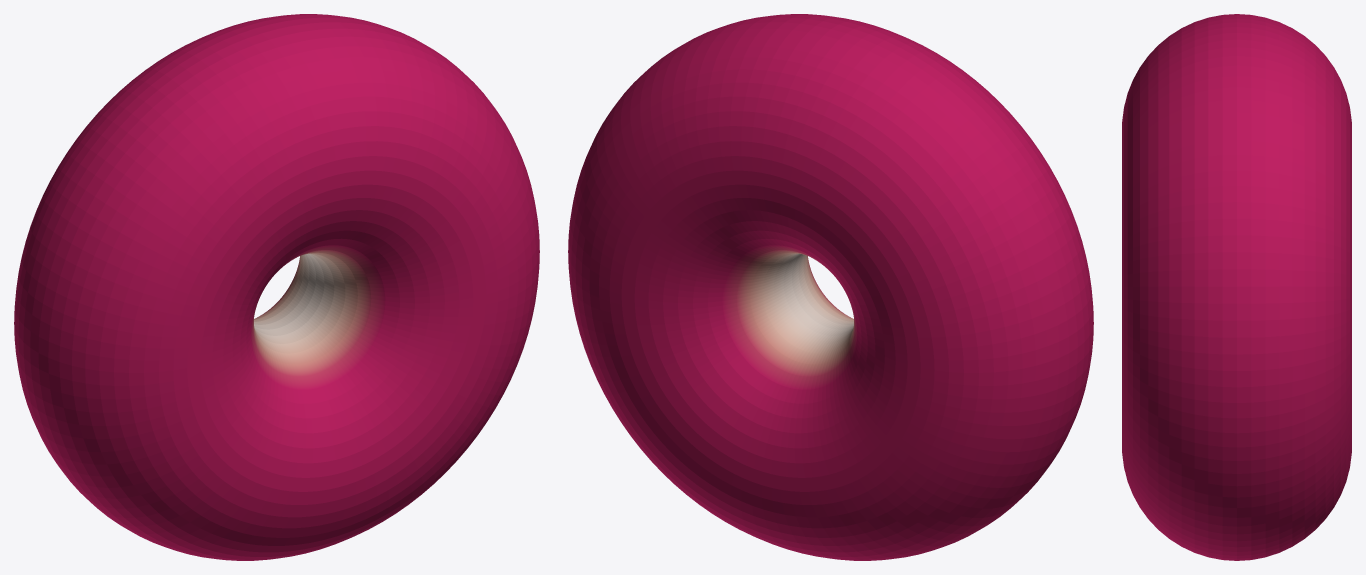
The picture shows the model from 3 angles, left to right: view 1: azimuth 30°, elevation 25°; view 2: azimuth 150°, elevation 25°; view 3: azimuth 270°, elevation 25°; orthographic projection. The views are drawn at different scales.
Visible parts, largest first — view 1: world; view 2: world; view 3: world.
Part boxes in pixels (left/top/right/bottom): world: left=14, top=14, right=539, bottom=560; world: left=568, top=14, right=1093, bottom=560; world: left=1122, top=14, right=1351, bottom=560.
Size of the model in its own units: 21.87 by 21.87 by 9.18.
